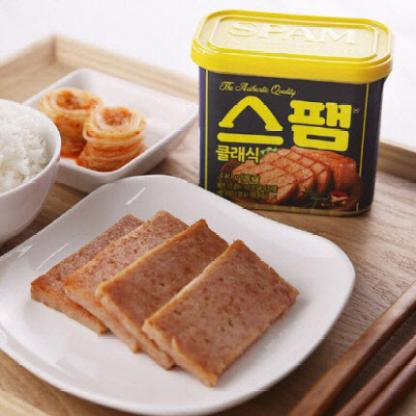spam: (195, 17, 384, 216), (66, 220, 286, 366)
